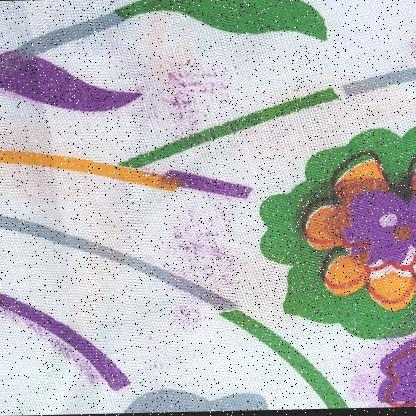spot: (160, 66, 226, 127), (164, 216, 228, 268), (349, 348, 379, 405), (162, 304, 202, 336), (141, 359, 163, 375), (146, 331, 157, 343)
